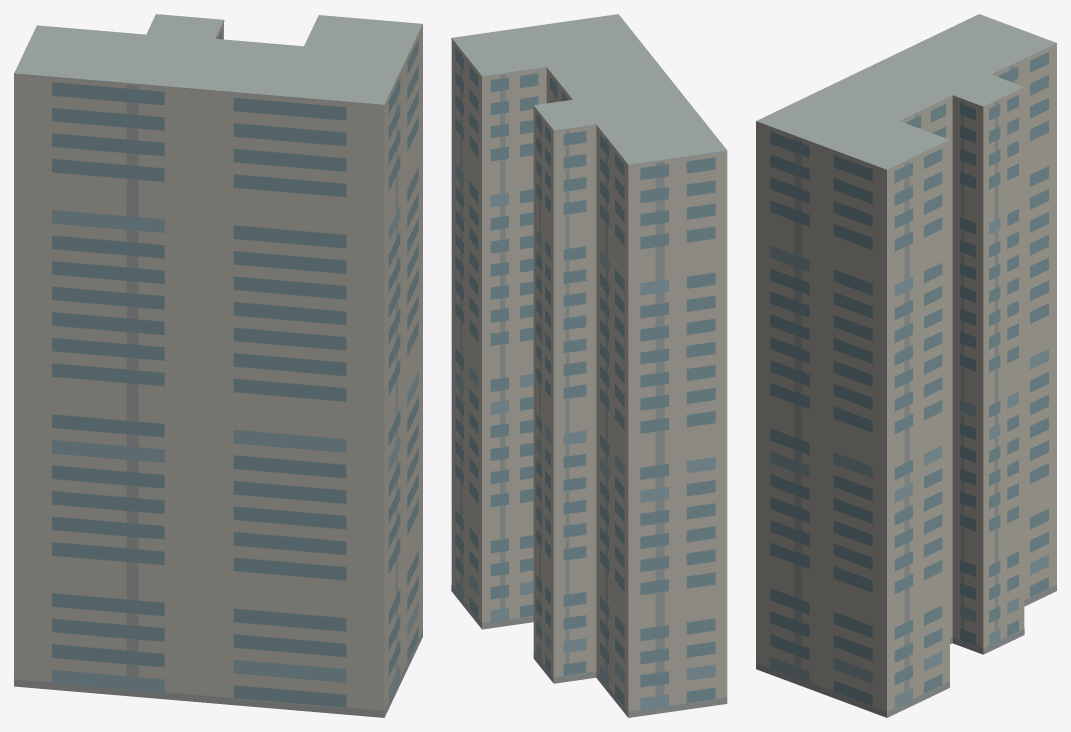
File: residential-7dfb3550-7282-4be7-b0df-92dcb5346d40.glb
3 views of the same model, side by side, from view 1: azimuth 30°, elevation 25°; view 2: azimuth 150°, elevation 25°; view 3: azimuth 270°, elevation 25° (orthographic). The views are drawn at different scales.
Parts seen in each view (by area): view 1: residential-7dfb3550-7282-4be7-b0df-92dcb5346d40.tmp; view 2: residential-7dfb3550-7282-4be7-b0df-92dcb5346d40.tmp; view 3: residential-7dfb3550-7282-4be7-b0df-92dcb5346d40.tmp.
Part boxes in pixels (<box>): residential-7dfb3550-7282-4be7-b0df-92dcb5346d40.tmp: <box>14,14,422,717</box>; residential-7dfb3550-7282-4be7-b0df-92dcb5346d40.tmp: <box>451,14,727,717</box>; residential-7dfb3550-7282-4be7-b0df-92dcb5346d40.tmp: <box>756,14,1056,717</box>.
Bounding box in the file's own units: 41.48 × 68 × 33.84.
